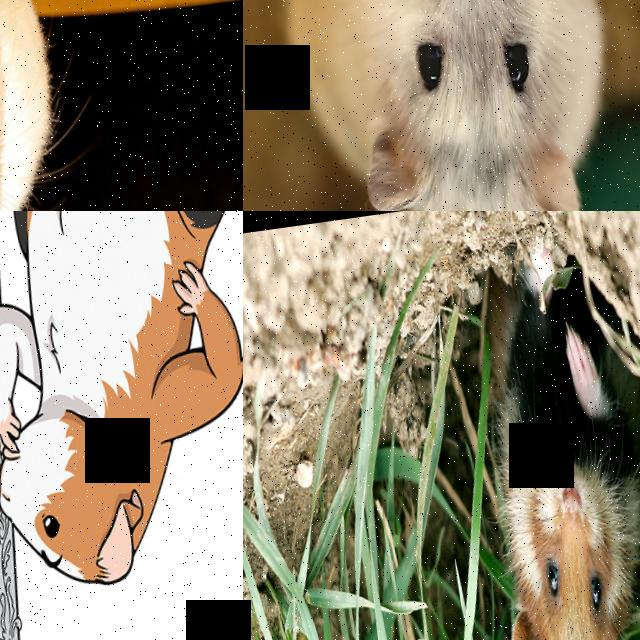hamster: (0, 211, 243, 613), (262, 0, 634, 211), (460, 281, 640, 640), (0, 0, 92, 211)
